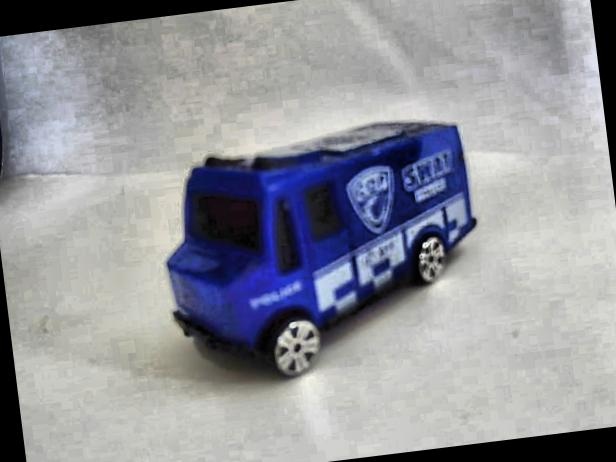police car: (149, 104, 500, 397)
